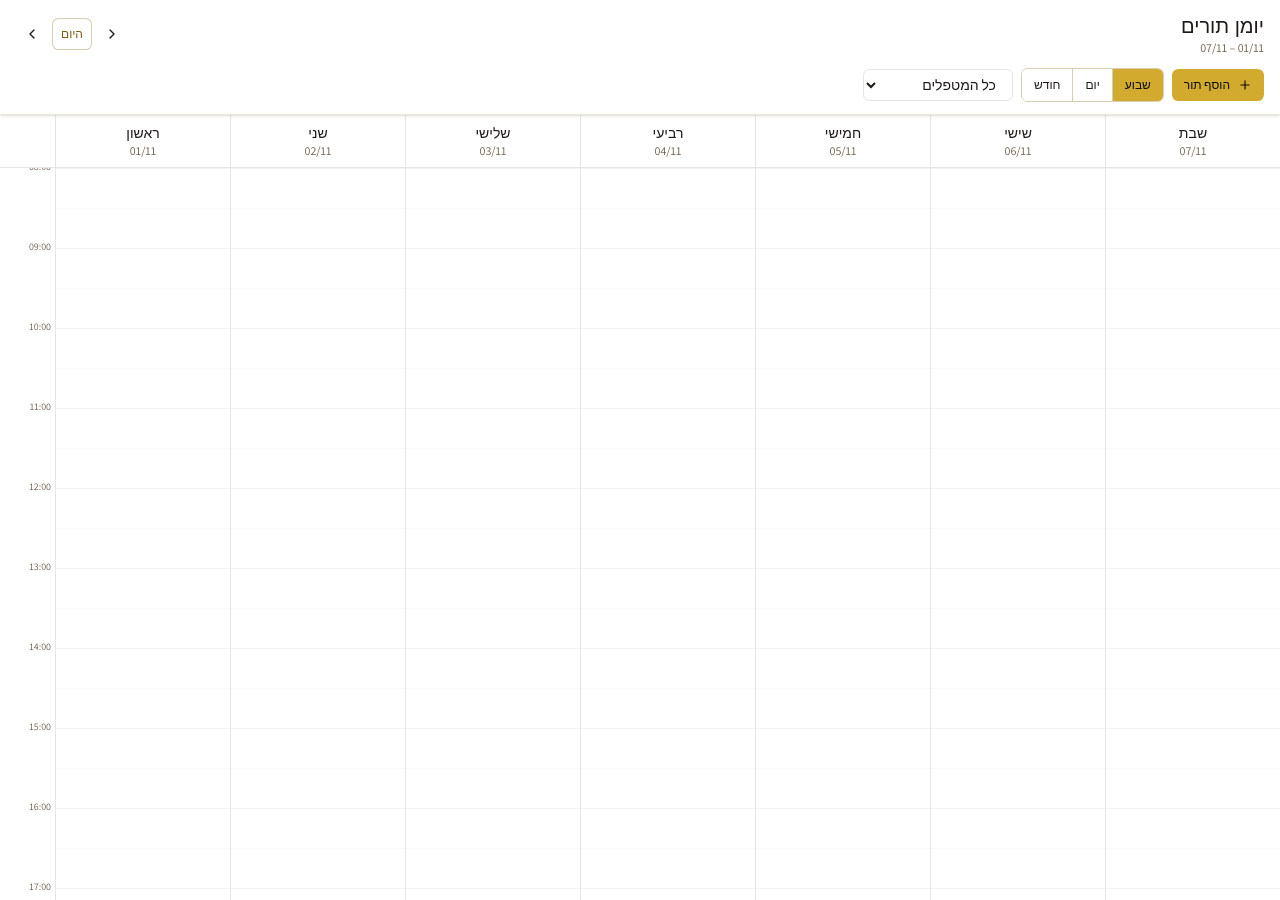
NewAppointmentDialog — auto-fill end time from treatment duration › בחירת טיפול של 45 דק' קובעת שעת סיום = 09:45
Click the button with aria-label "פתח דיאלוג הוספת תור חדש". click: click(1218, 85)
box: [1172, 69, 1264, 101]
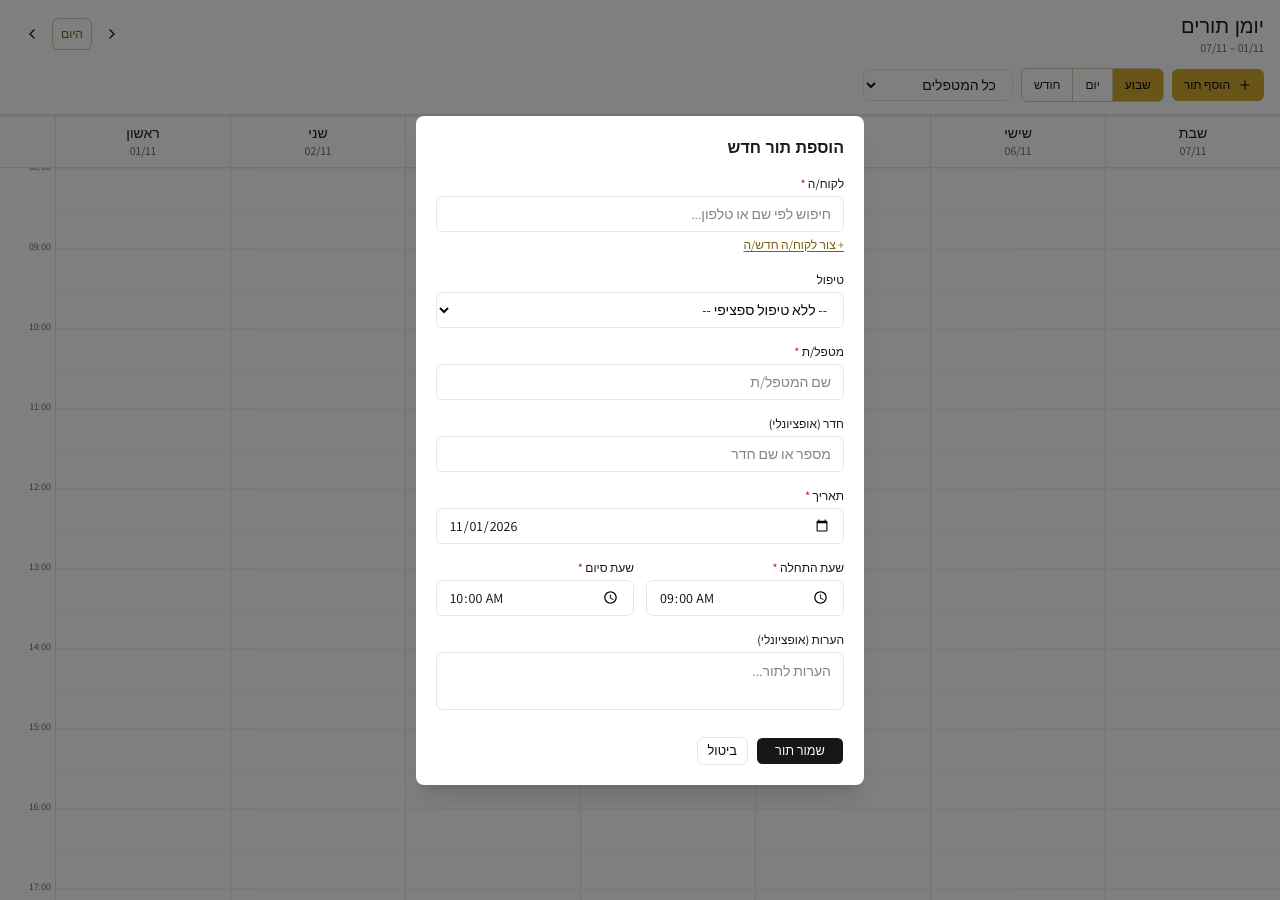
Select "טיפול פנים (45 דק')" in the dropdown labelled "טיפול". click: (640, 310)
box: [436, 292, 844, 328]
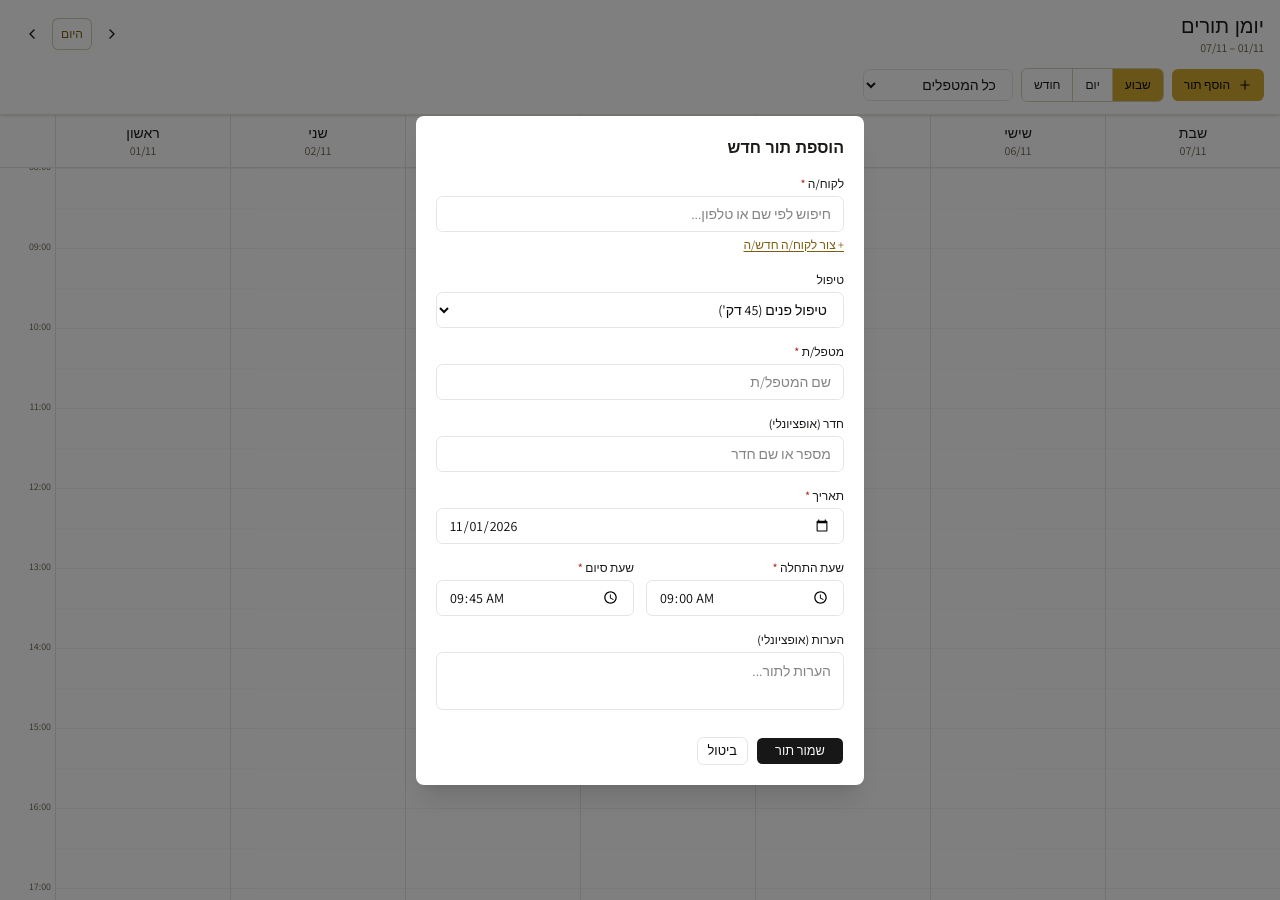
Now the time field labelled "שעת סיום *" holds "09:45", box [436, 580, 634, 616]
